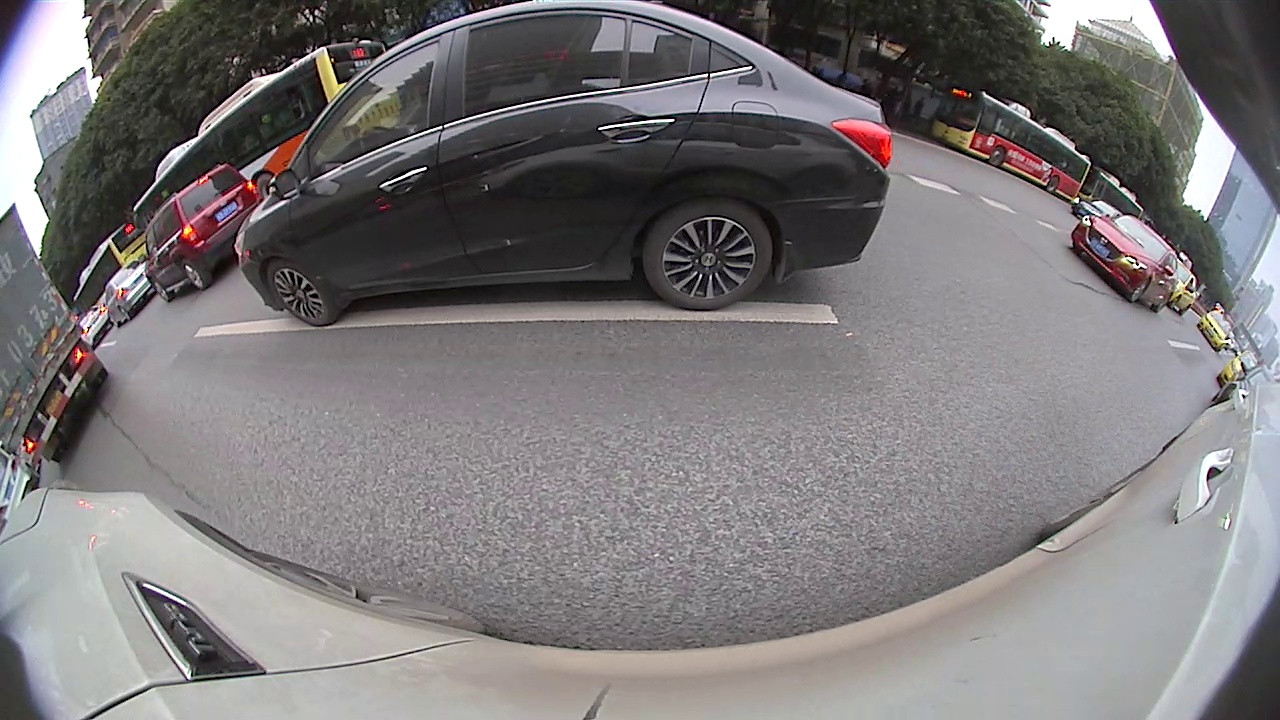bus: (133, 38, 390, 228), (937, 83, 1089, 203), (70, 217, 151, 309)
car: (230, 0, 897, 327), (144, 163, 261, 302), (1076, 214, 1178, 310), (99, 264, 157, 330), (3, 444, 38, 518), (1198, 309, 1237, 351), (1170, 259, 1194, 314)
front: (268, 263, 341, 325), (1123, 277, 1150, 303), (152, 280, 174, 302), (989, 146, 1005, 166)
rear: (643, 200, 773, 309), (182, 260, 212, 291), (1046, 175, 1060, 192), (120, 307, 133, 321)
truck: (2, 203, 108, 467), (1076, 167, 1142, 222)
